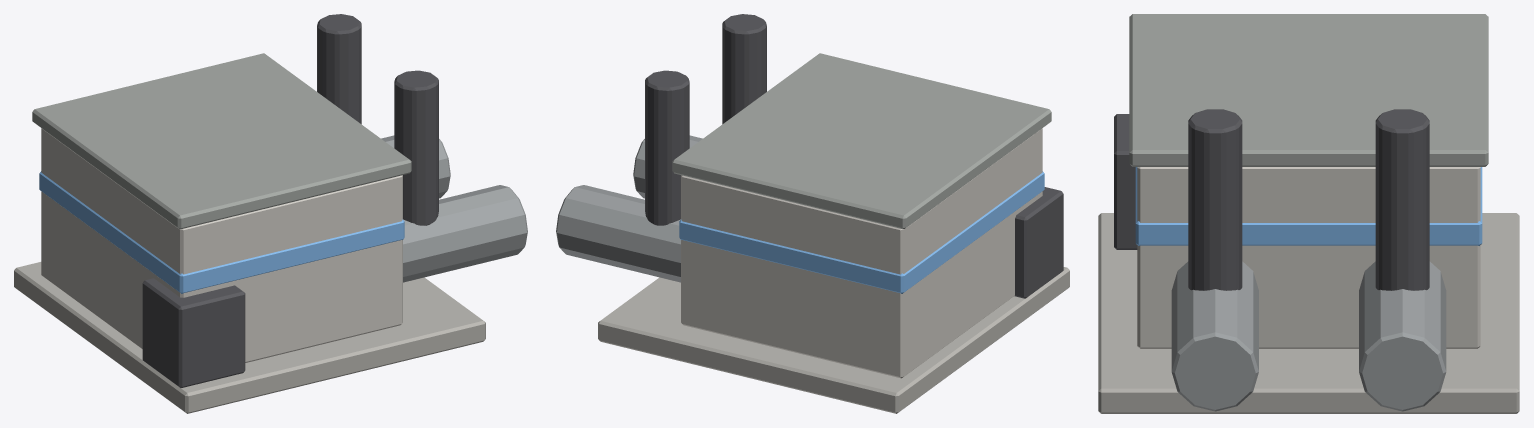
Rendered from power_plant.glb.
The picture shows the model from 3 angles, left to right: view 1: azimuth 30°, elevation 25°; view 2: azimuth 150°, elevation 25°; view 3: azimuth 270°, elevation 25°; orthographic projection. The views are drawn at different scales.
Visible parts, largest first — view 1: power_plant; view 2: power_plant; view 3: power_plant.
Boxes of the visible parts, left/top/right/bottom form: power_plant: left=14, top=14, right=527, bottom=413; power_plant: left=556, top=14, right=1069, bottom=413; power_plant: left=1098, top=14, right=1519, bottom=413.
Bounding box in the file's own units: 3.35 × 2 × 2.7.
